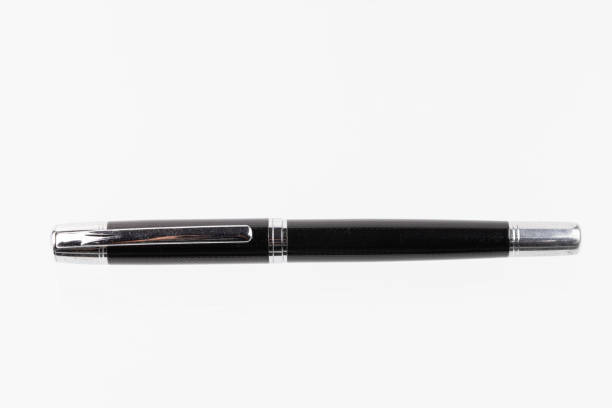pen: (42, 206, 587, 275)
